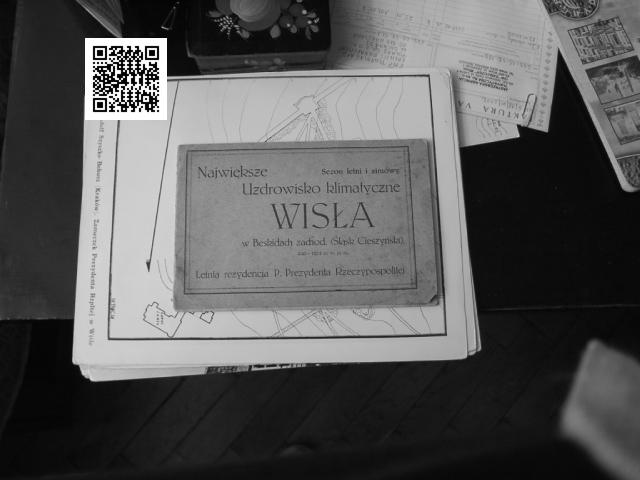qr_code: (86, 39, 167, 119)
